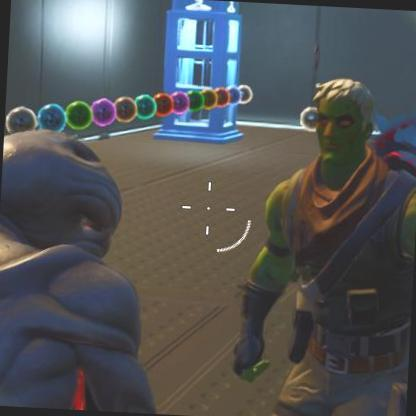person: (231, 69, 416, 416), (0, 117, 165, 412)
